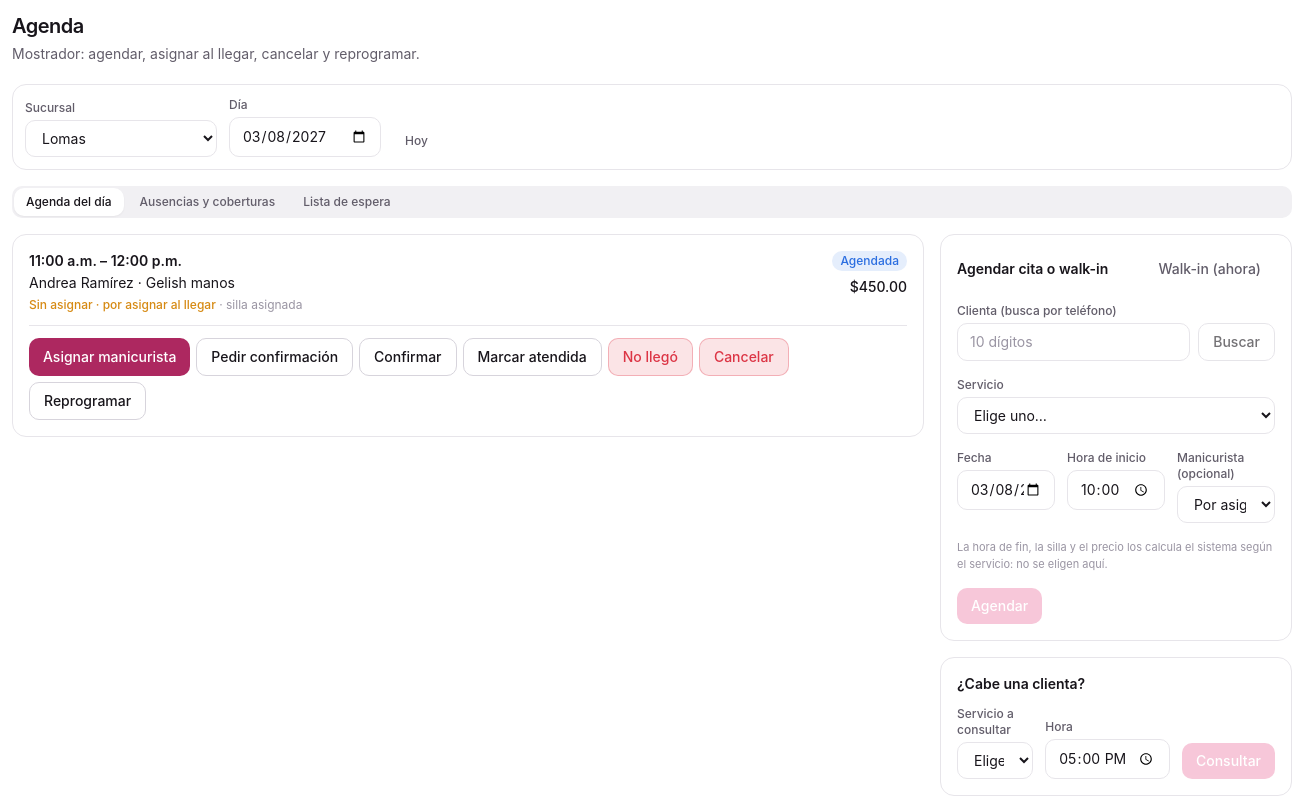
Test: Agenda Operativa — asignar manicurista al llegar › un `409 MANICURISTA_OCUPADA` se explica con claridad
Click the button "Asignar manicurista".
click(110, 357)  # box [29,338,190,376]
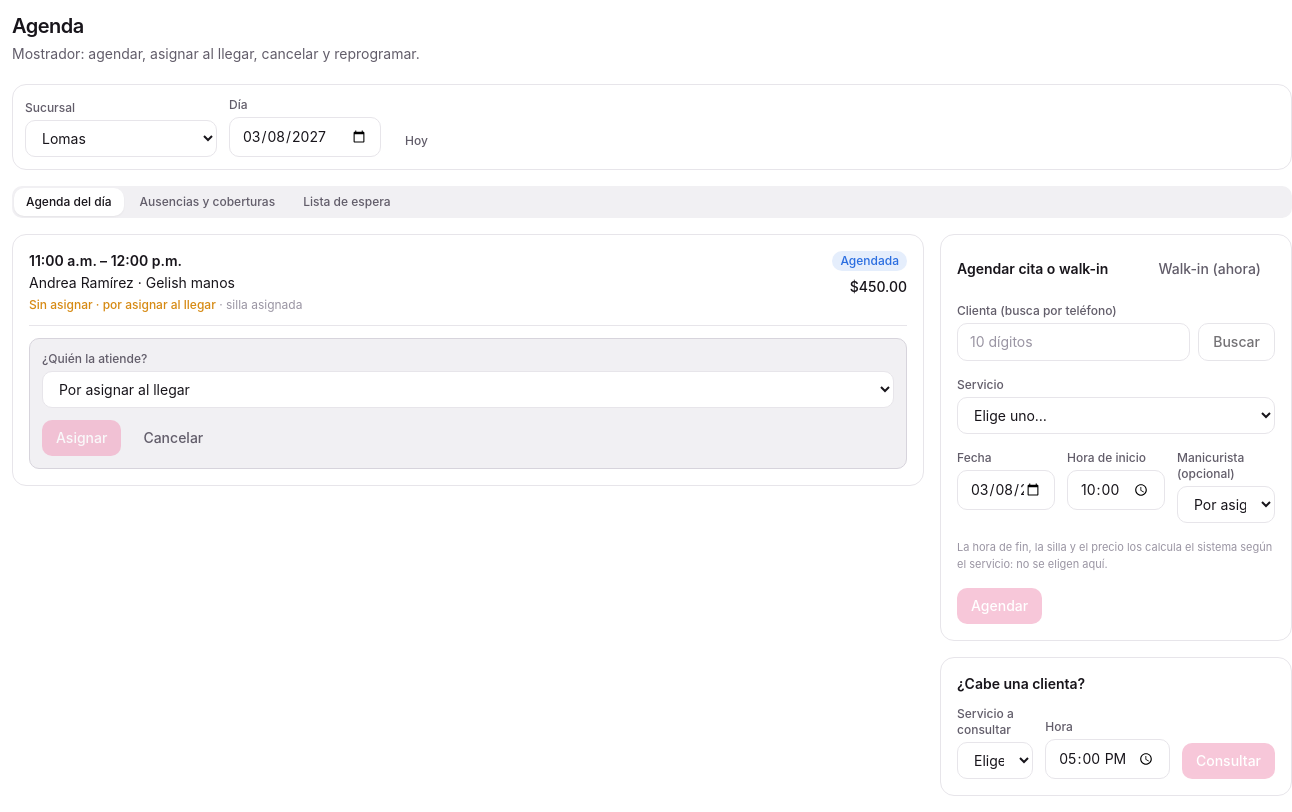
Select "Ana" in the dropdown labelled "¿Quién la atiende?" at (468, 390), box [42,371,894,408]
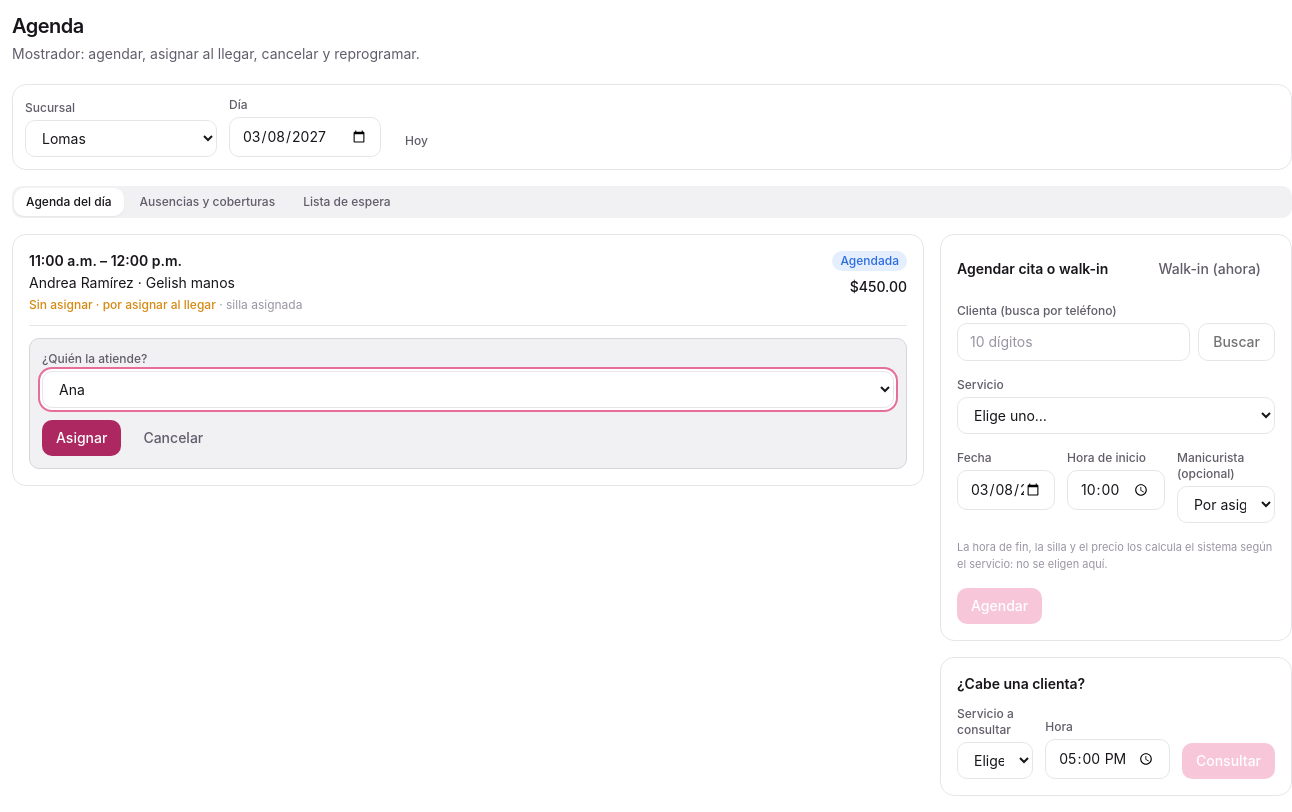
Click the button "Asignar".
click(82, 438)  # box [42,420,121,456]
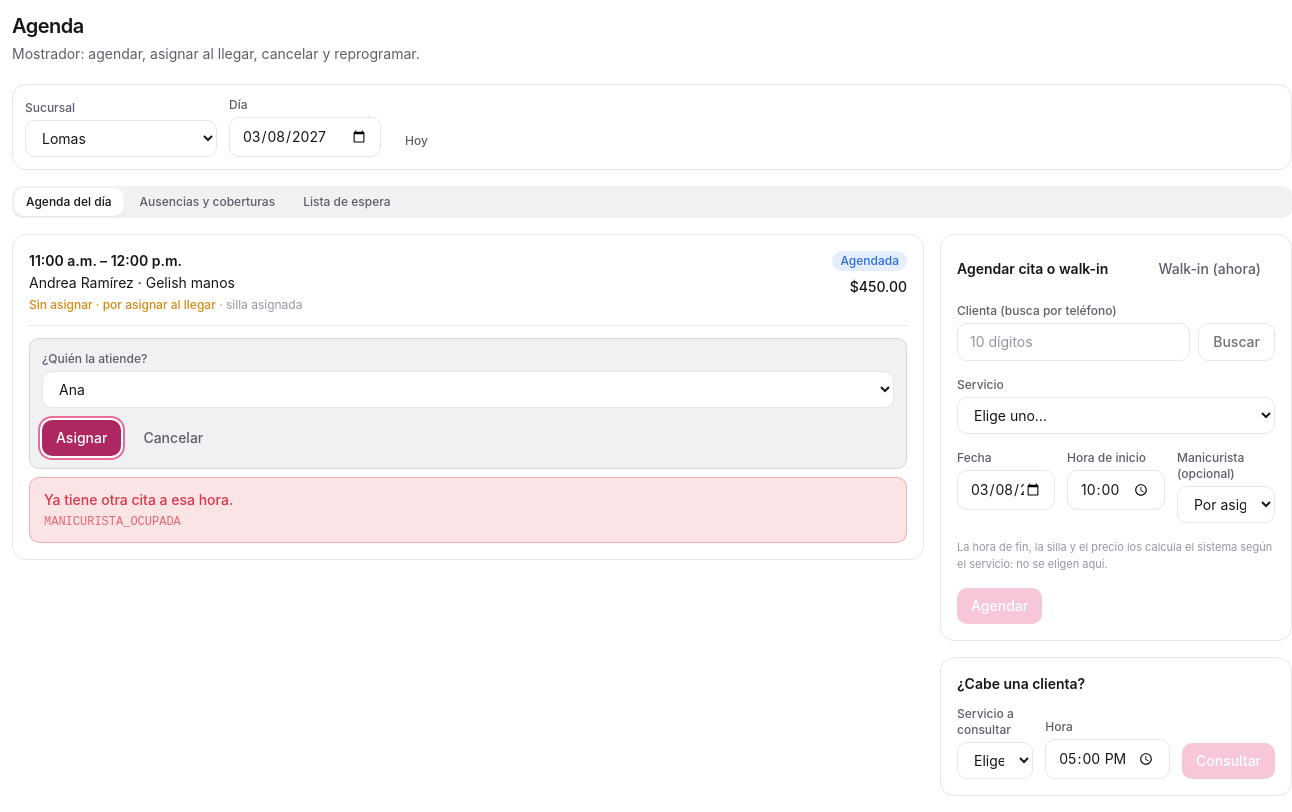
Check: the message reads "Ya tiene otra cita a esa hora. MANICURISTA_OCUPADA", box [44,491,233,508]
